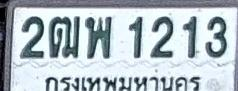1: (182, 15, 197, 58), (128, 16, 143, 58)
2: (20, 16, 44, 58), (150, 16, 173, 58)
3: (205, 16, 227, 58)
A18: (48, 15, 80, 58)
A30: (85, 16, 112, 58)
BKK: (39, 72, 204, 91)
